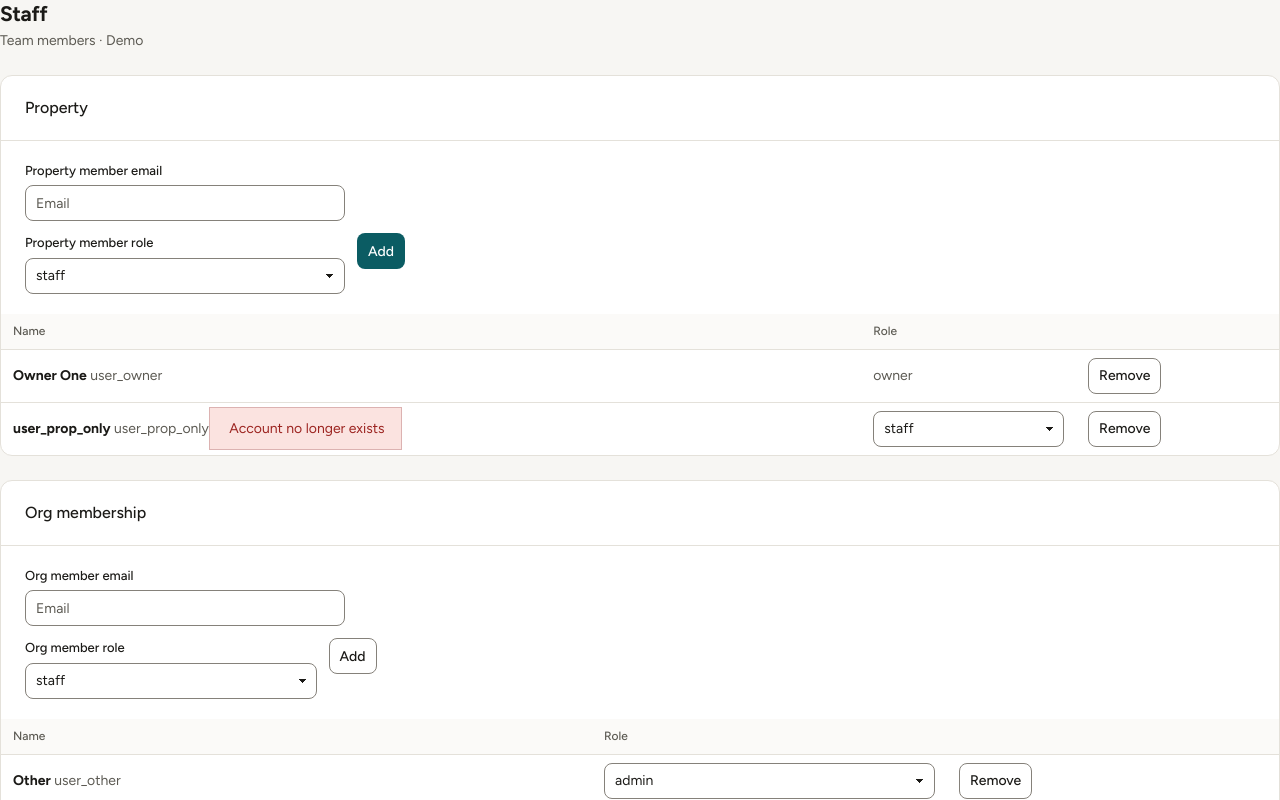
Test: StaffScreen › #10 owner org DELETE confirm cascade; self-demote confirm
The width and height of the screenshot is (1280, 800).
Later steps or results of the test are not shown.
Step 1. Click the button "Remove" in the row of "user_other" → coordinates (996, 781), box [959, 763, 1032, 799]
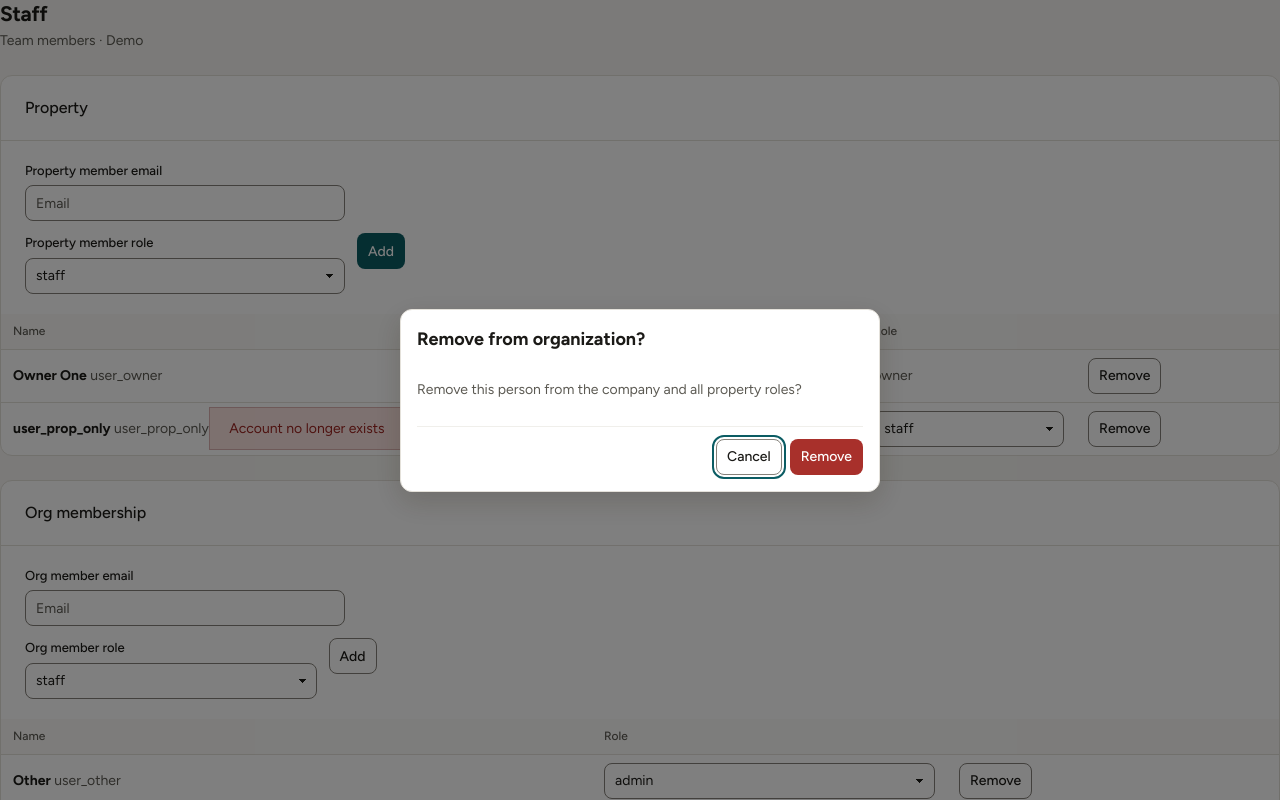
Check: the text "Remove this person from the company and all property roles?" is shown, box [417, 378, 863, 400]
Step 2. Click the button "Cancel" → coordinates (749, 456), box [716, 438, 782, 474]
(page scrolled)
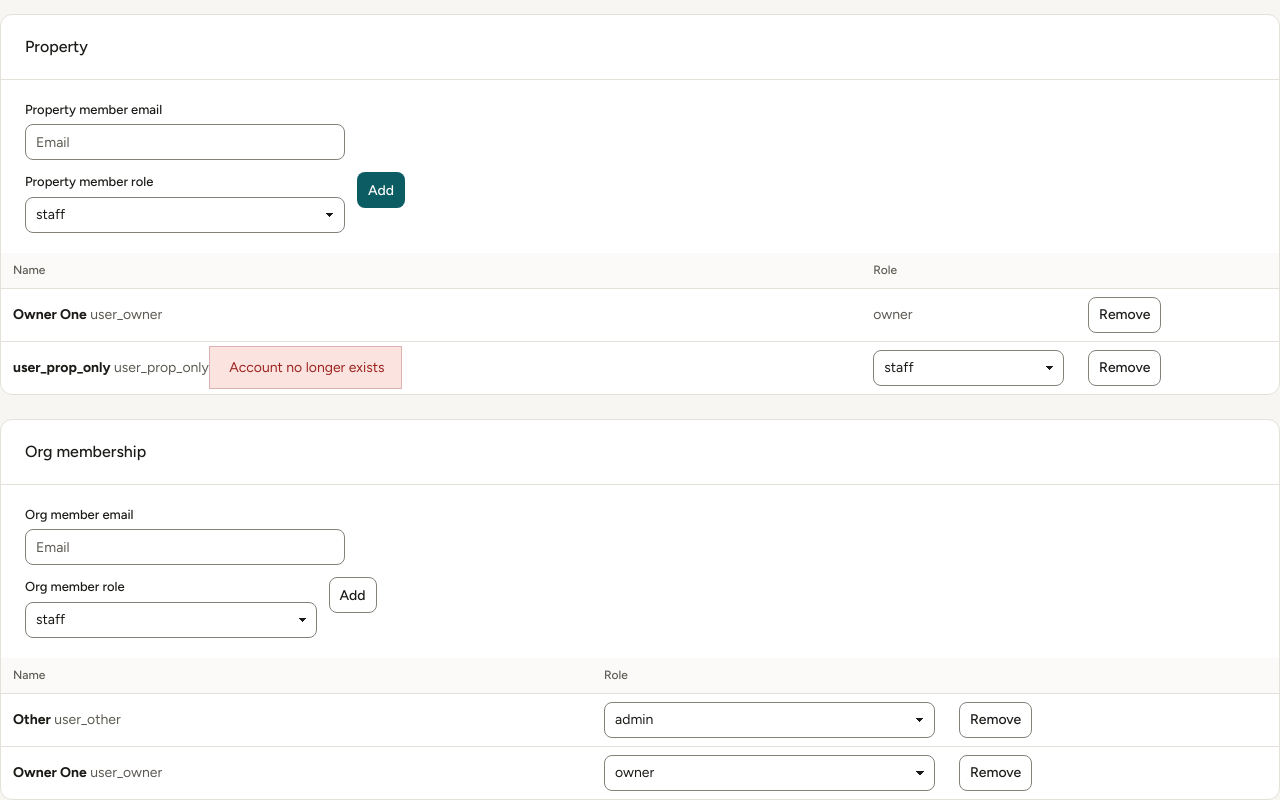
Step 3. Select "admin" in the dropdown named "Org role for user_owner" → coordinates (769, 773), box [604, 755, 935, 791]
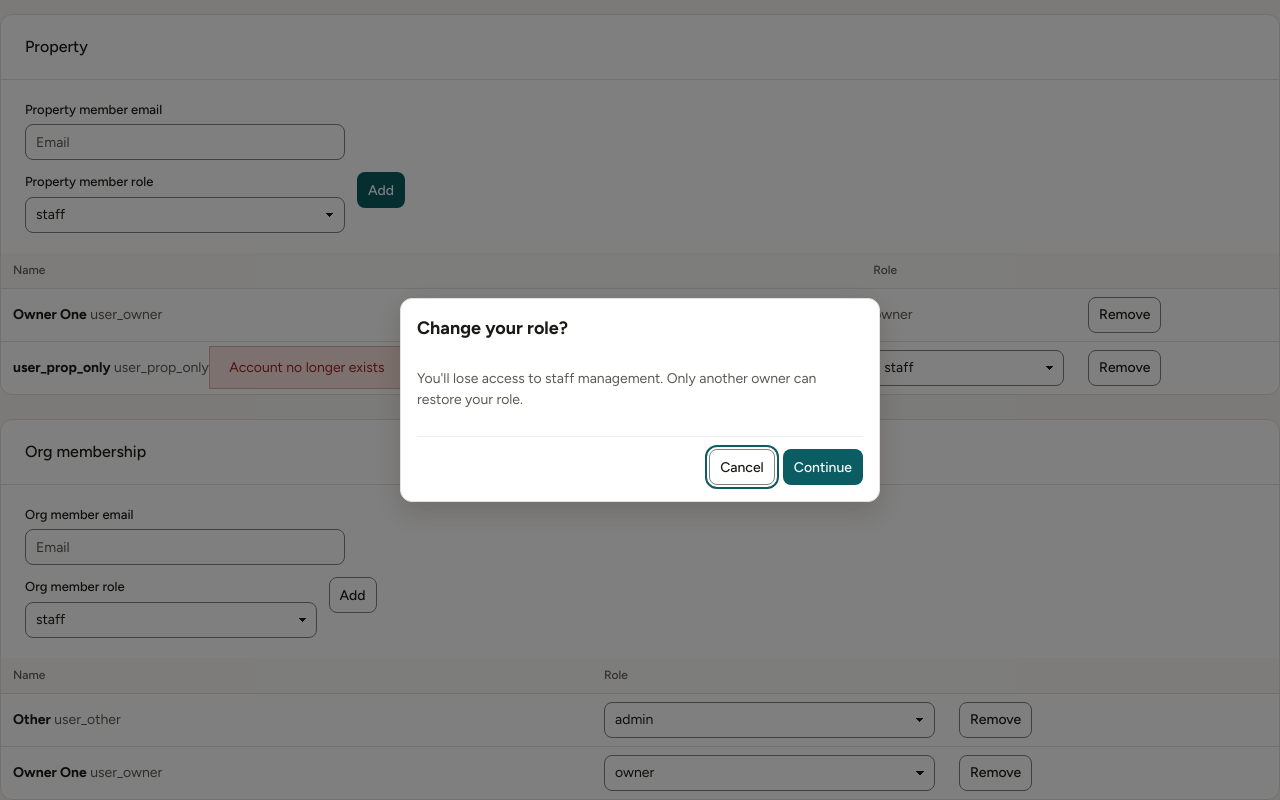
Check: the text "lose access to staff management" is shown, box [417, 370, 816, 408]
